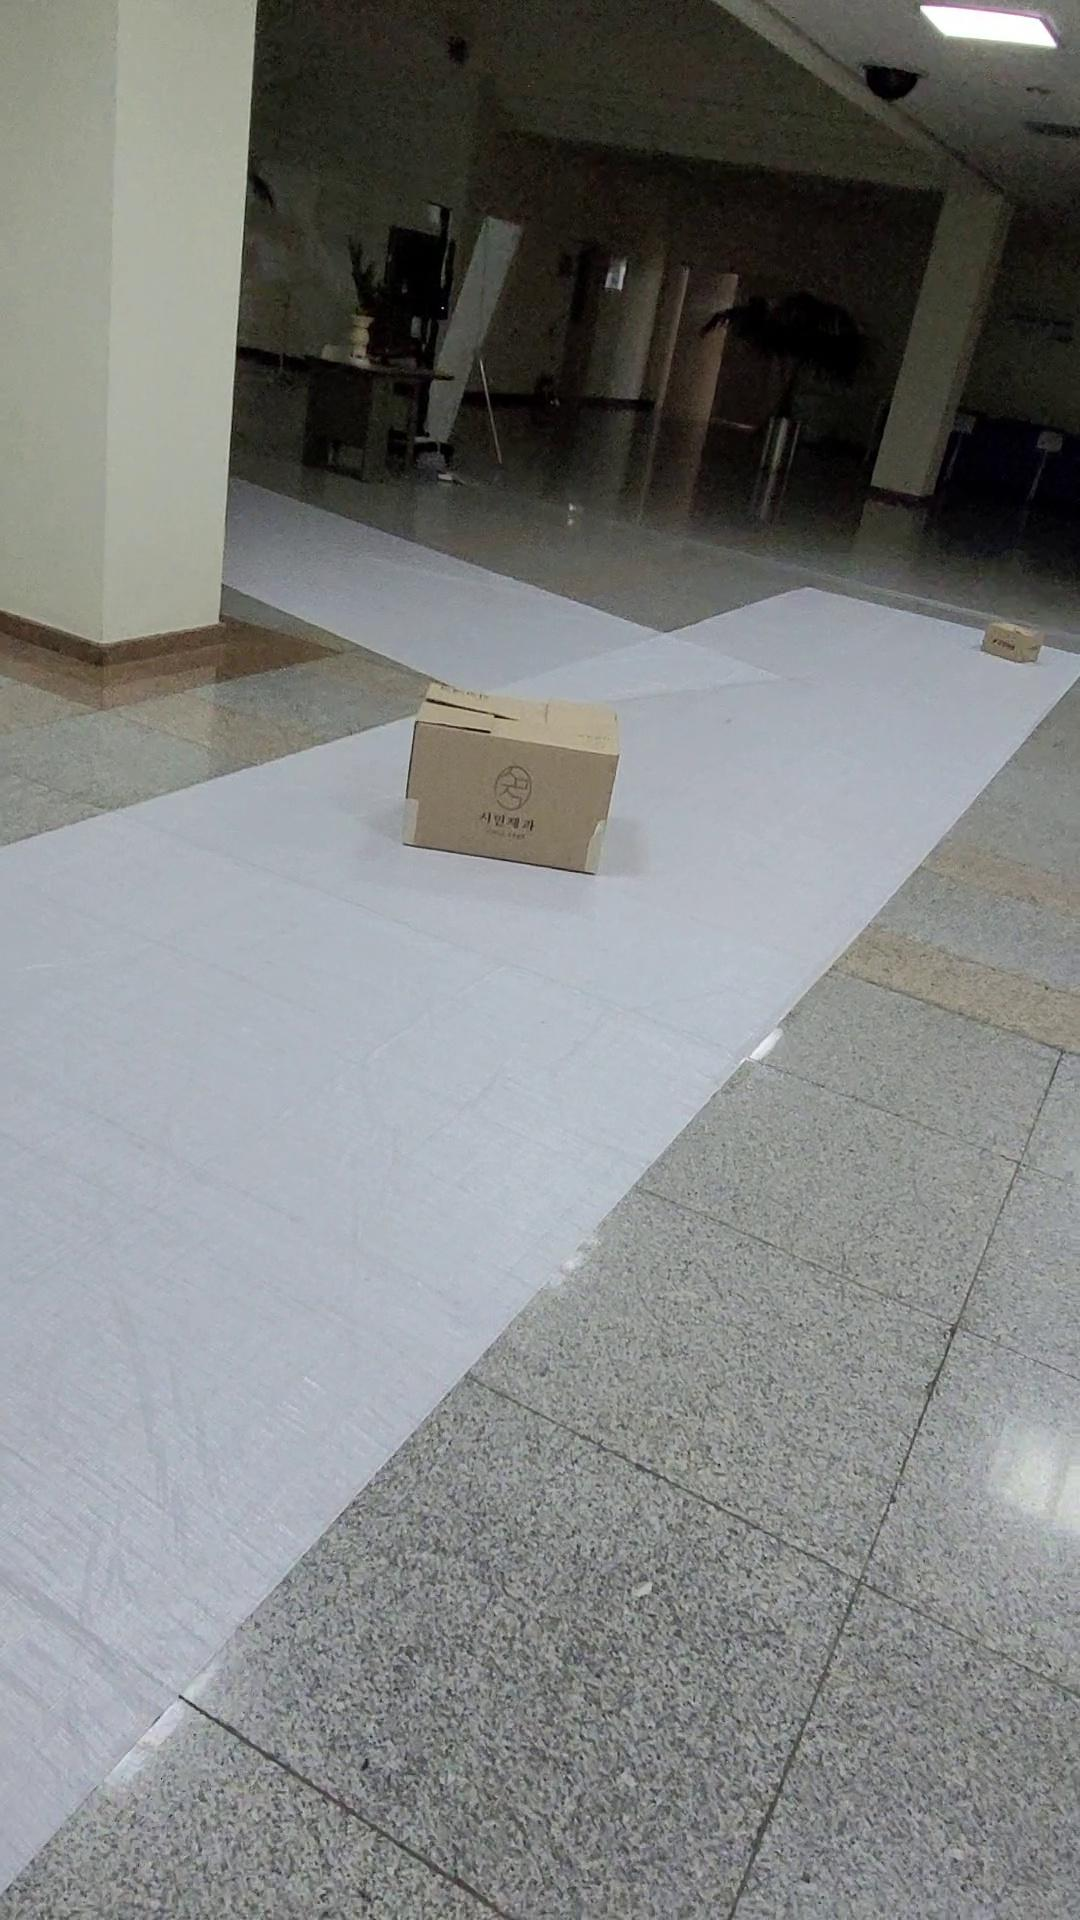Box: (376, 665, 645, 897), (967, 600, 1060, 682)
